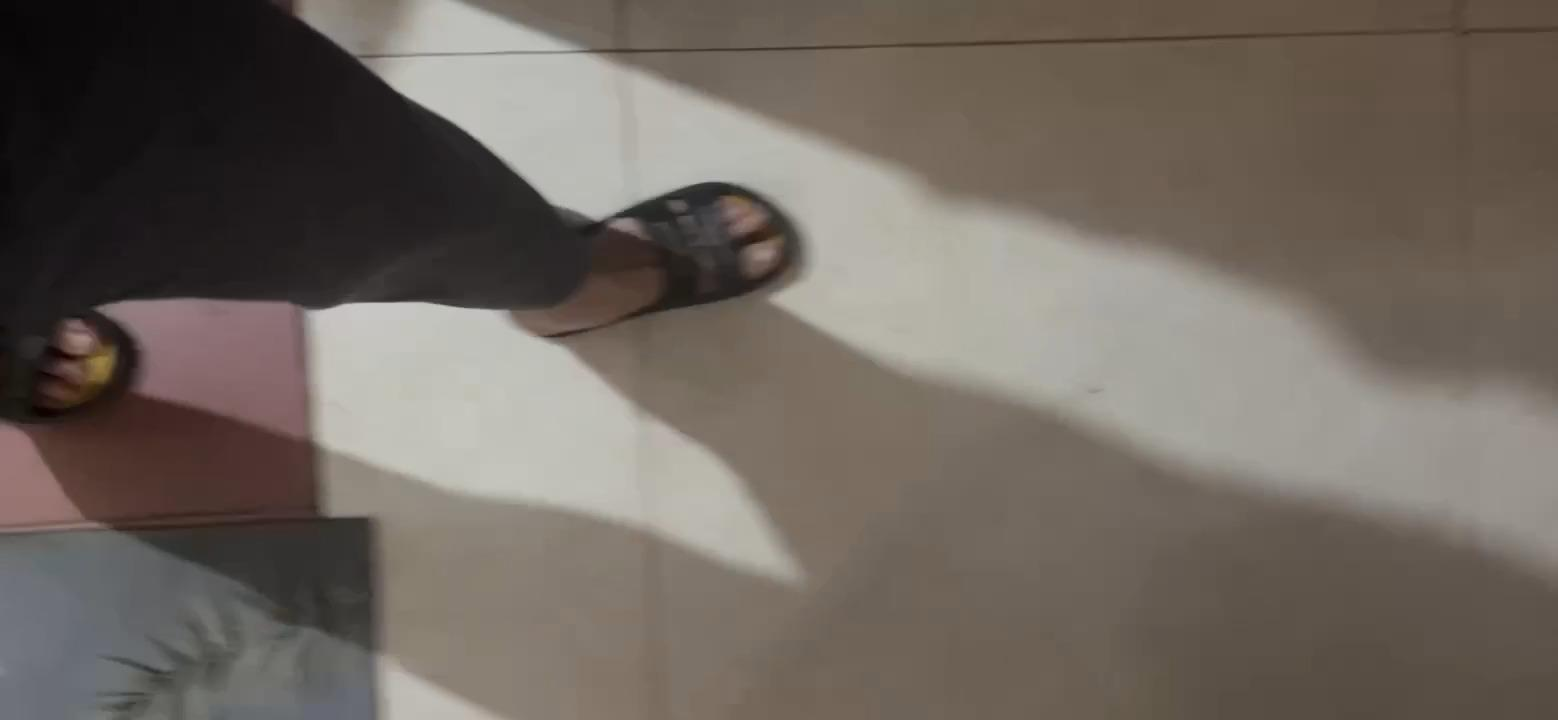no-boot: (509, 175, 801, 318)
